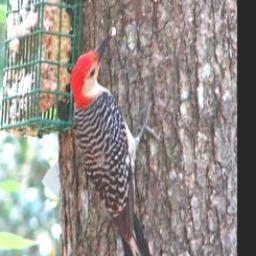Woodpecker: (71, 27, 165, 256)
